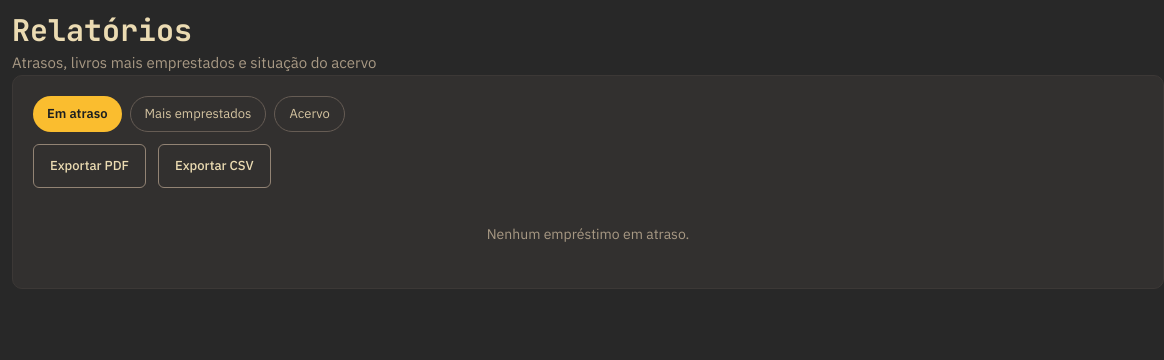
Test: relatório de atrasos › mostra a recusa da API quando o relatório é grande demais
This screenshot has width=1164, height=360.
Click the button "Exportar PDF" at (90, 166), box [33, 144, 146, 188]
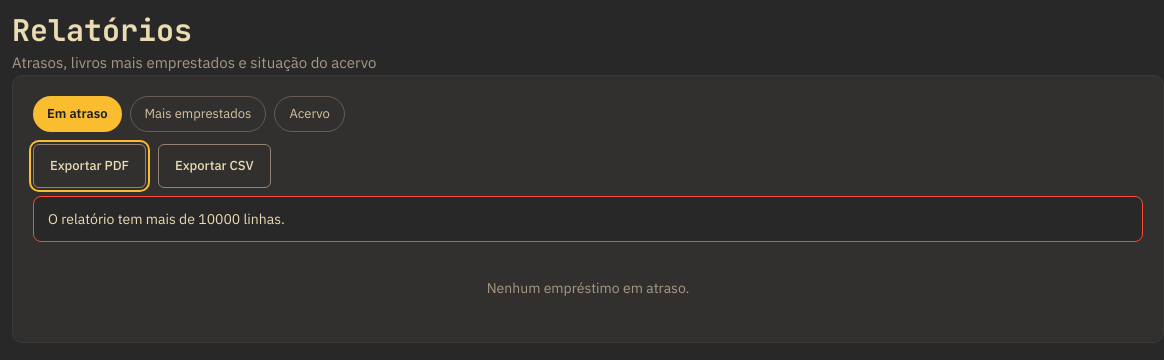
Expected: the text "O relatório tem mais de 10000 linhas." is shown, [48, 208, 285, 228]
